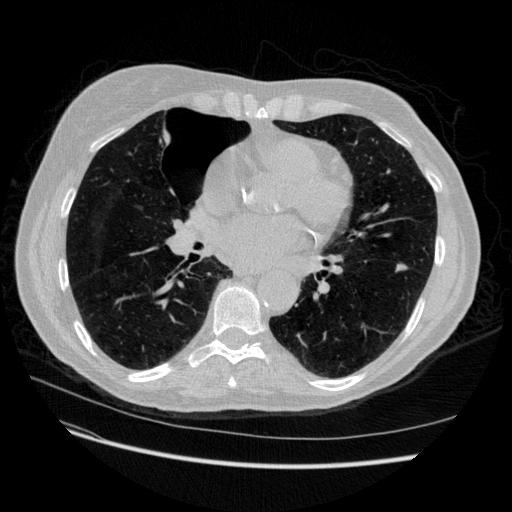nodule: (393, 260, 408, 275)
